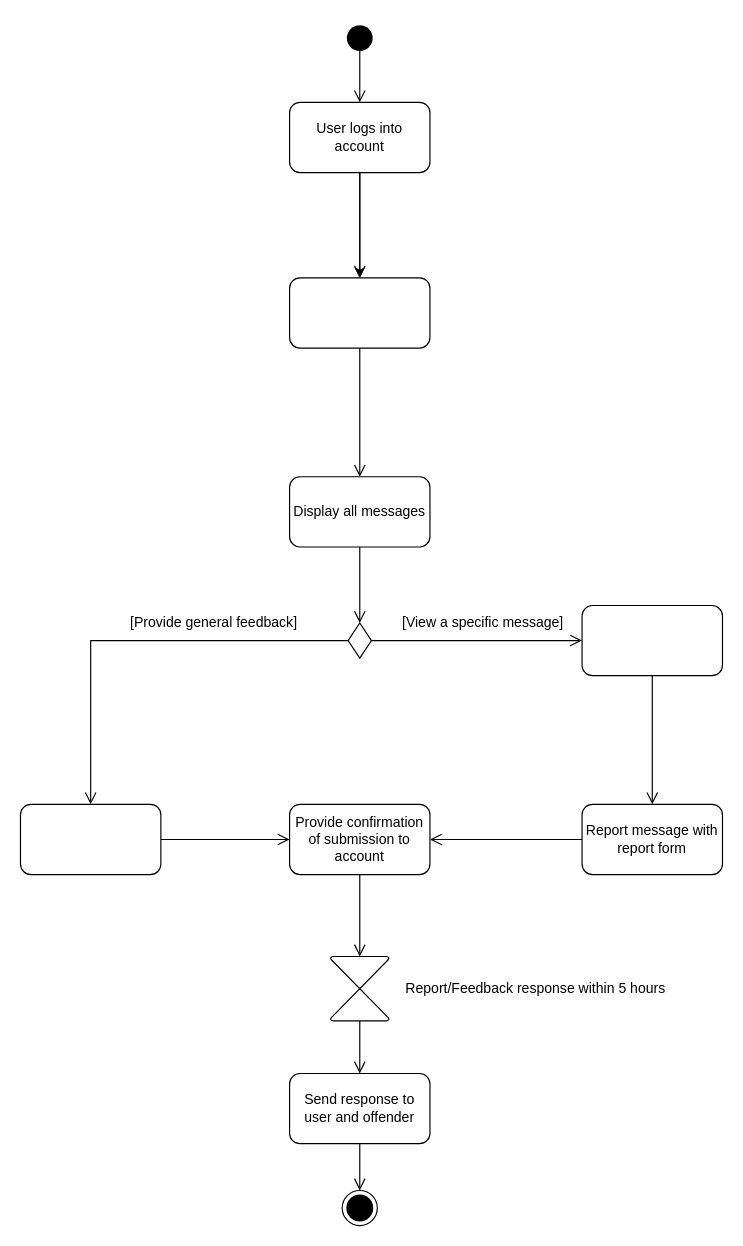
The diagram is 743 pixels wide and 1246 high, and some of its shapes have lost their labels. The shapes that lost their labels are listed below. From the top down, each one's centre as x and y in pixels, then its label:
At point (359, 312): "Display community guidelines and rules".
At point (651, 640): "Display message".
At point (90, 839): "Fill out feedback form".
